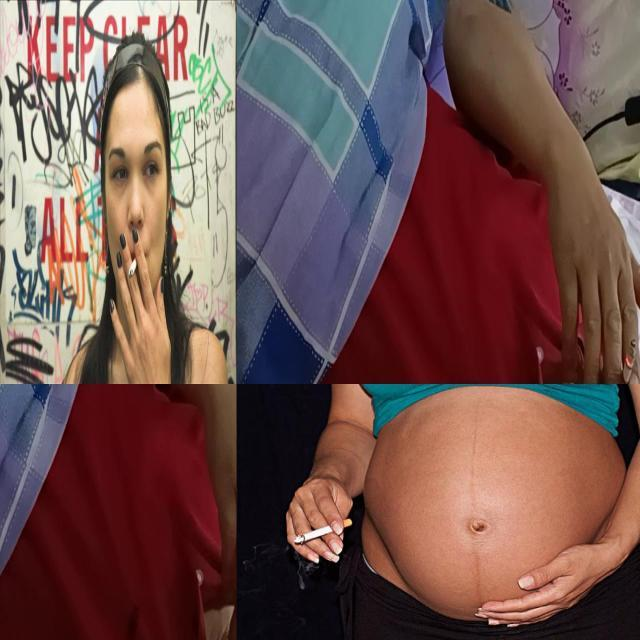smoking: (293, 518, 353, 544), (618, 337, 638, 383), (128, 256, 138, 280)
